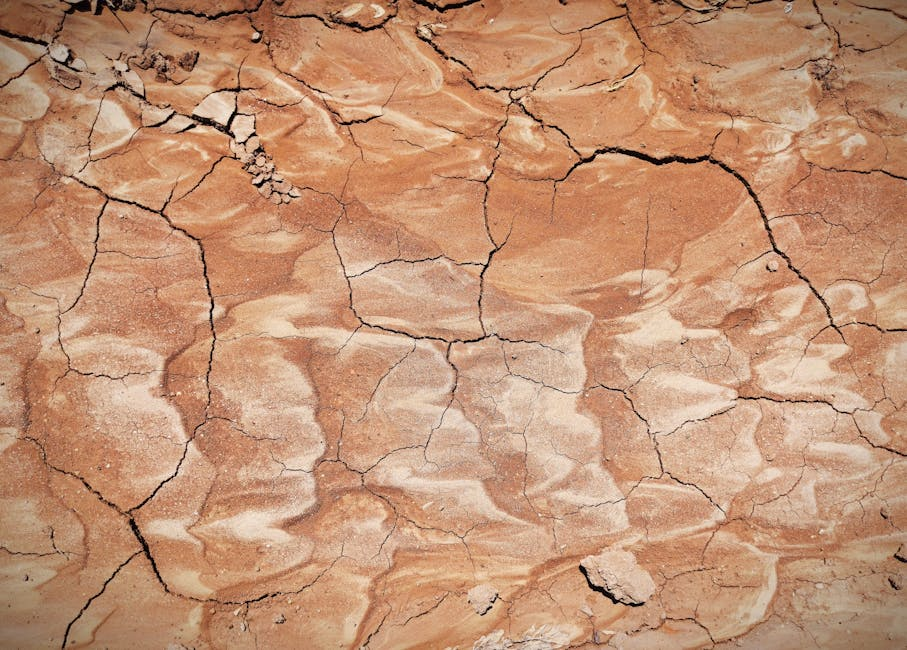细微裂纹: (319, 299, 724, 496), (417, 50, 852, 227), (63, 138, 230, 584), (741, 312, 903, 465)
